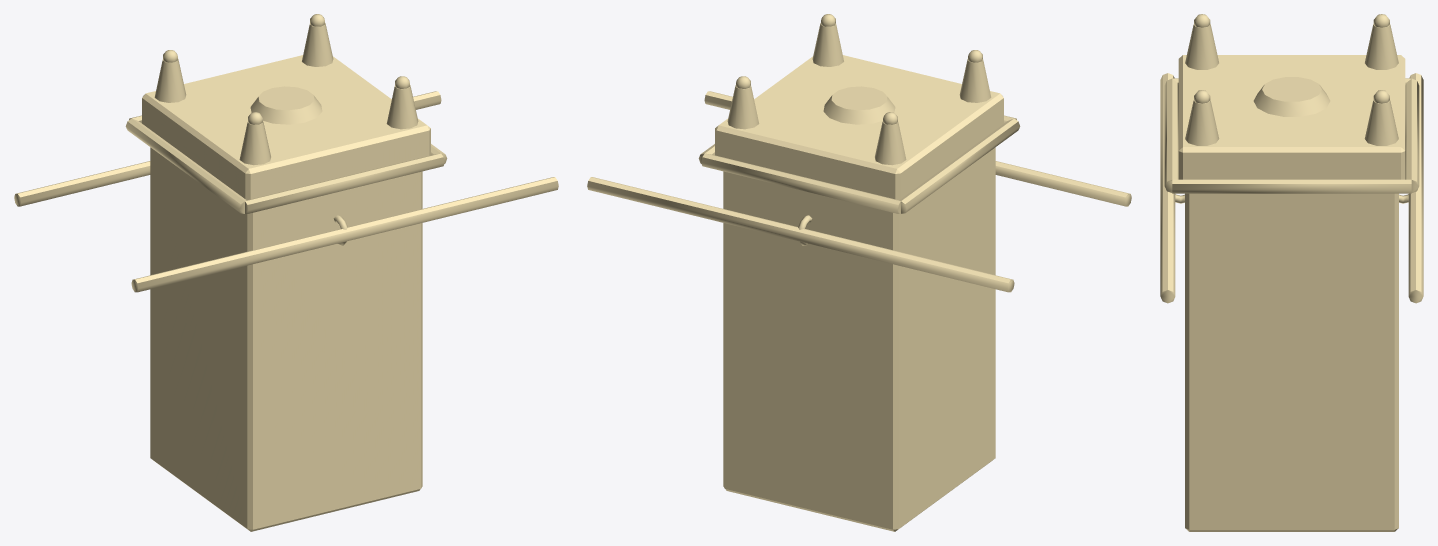
Rendered from incense-altar.glb.
3 renders of one model, left to right at view 1: azimuth 30°, elevation 25°; view 2: azimuth 150°, elevation 25°; view 3: azimuth 270°, elevation 25°, orthographic. The views are drawn at different scales.
Visible parts, largest first — view 1: altar; view 2: altar; view 3: altar.
Part boxes in pixels (x1,y1,x2,y2): altar: (14, 14, 558, 531); altar: (587, 14, 1131, 531); altar: (1160, 14, 1423, 531).
Size of the model in its own units: 2.4 by 2.25 by 1.23.
